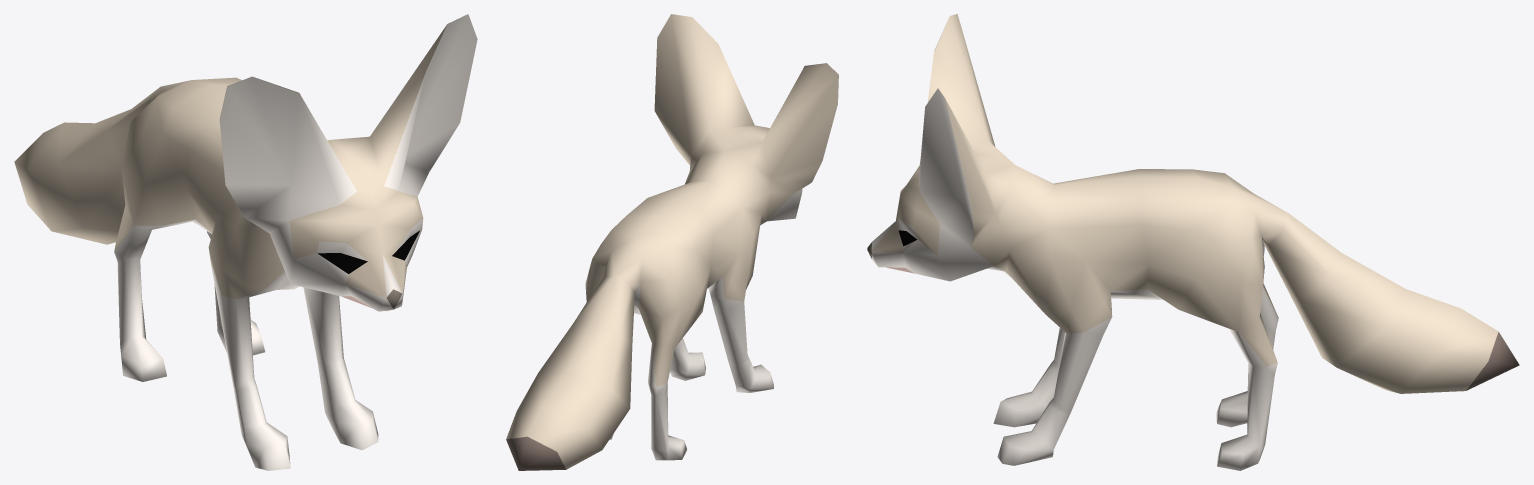
File: Fennek.fbx
3 views of the same model, side by side, from view 1: azimuth 30°, elevation 25°; view 2: azimuth 150°, elevation 25°; view 3: azimuth 270°, elevation 25° (orthographic). The views are drawn at different scales.
Parts seen in each view (by area): view 1: Fennek; view 2: Fennek; view 3: Fennek.
Boxes of the visible parts, x1,y1,x2,y2 form: Fennek: [14, 14, 477, 470]; Fennek: [506, 14, 838, 470]; Fennek: [867, 14, 1519, 470].
Bounding box in the file's own units: 8.1 × 13.52 × 20.37.
